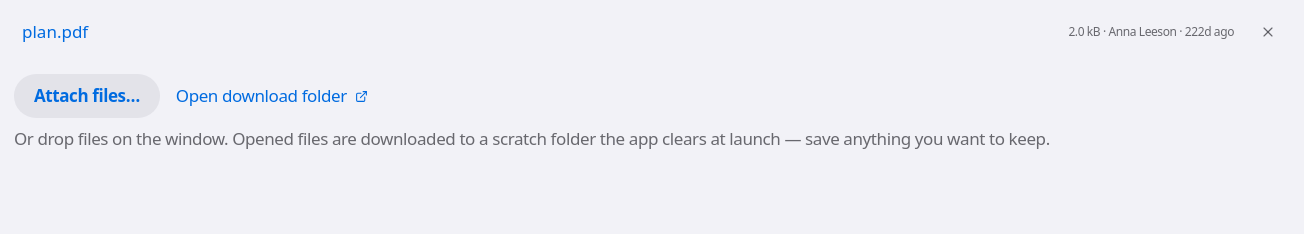
opening a file › shows why it could not be opened
Click the button titled "Open plan.pdf": [55, 32] box [14,10,96,54]
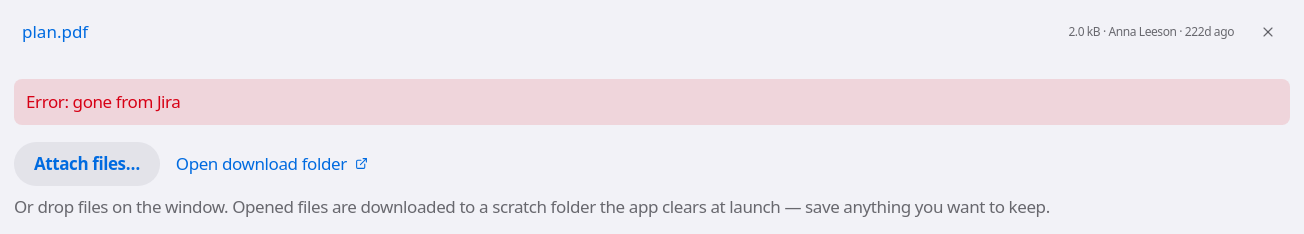
Now the text "Error: gone from Jira" is shown, box [14,79,1290,125]
